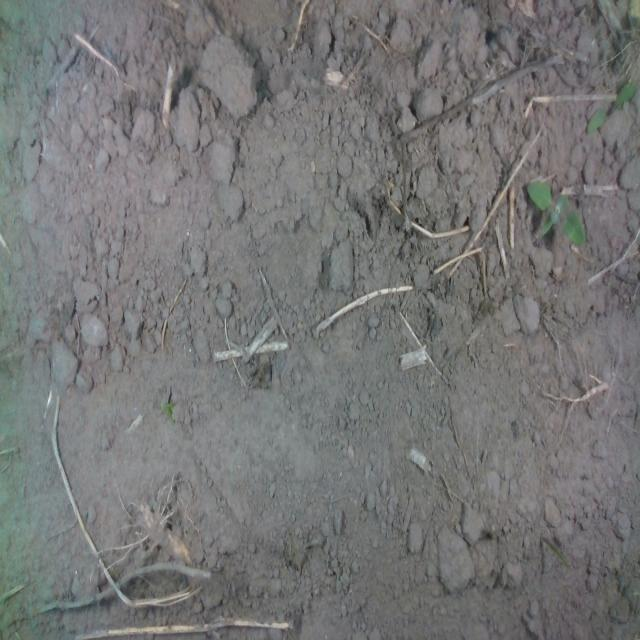weed: (525, 176, 586, 247), (585, 78, 639, 132)
